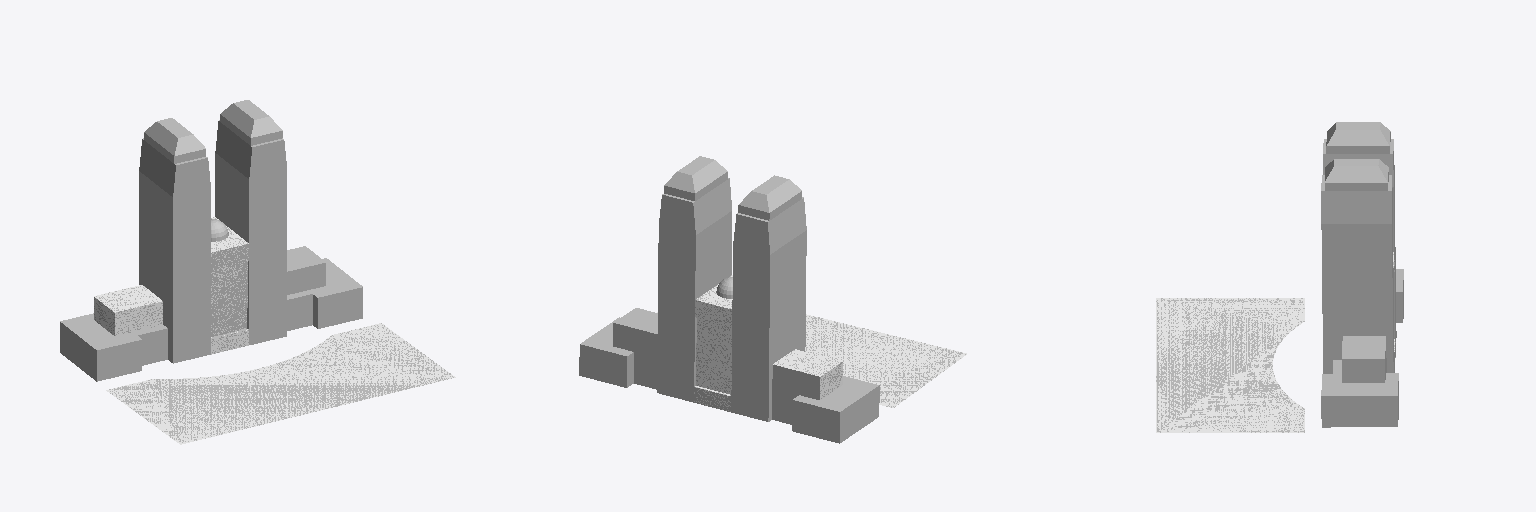
Rendered from Guanghua.obj.
3 renders of one model, left to right at view 1: azimuth 30°, elevation 25°; view 2: azimuth 150°, elevation 25°; view 3: azimuth 270°, elevation 25°, orthographic.
Parts seen in each view (by area): view 1: SketchUp, ID284, ID202, ID434, ID474, ID387, ID240, ID565, ID271, ID421, ID466, ID374 (+3 smaller); view 2: ID284, ID202, SketchUp, ID434, ID474, ID387, ID487, ID565, ID366, ID421, ID466, ID337 (+3 smaller); view 3: SketchUp, ID541, ID387, ID284, ID374, ID202, ID350, ID337, ID458.
Boxes of the visible parts, <box> form: SketchUp: <box>106,323,455,444</box>; ID284: <box>217,114,286,329</box>; ID202: <box>140,133,210,347</box>; ID434: <box>60,297,167,381</box>; ID474: <box>139,159,173,362</box>; ID387: <box>287,263,362,330</box>; ID240: <box>211,244,248,338</box>; ID565: <box>215,141,249,242</box>; ID271: <box>173,321,286,363</box>; ID421: <box>60,313,166,349</box>; ID466: <box>94,285,161,312</box>; ID374: <box>287,258,362,299</box>; ID284: <box>657,172,730,386</box>; ID202: <box>731,191,805,405</box>; SketchUp: <box>657,312,966,407</box>; ID434: <box>772,362,879,443</box>; ID474: <box>768,218,806,421</box>; ID387: <box>579,323,656,389</box>; ID487: <box>694,300,731,395</box>; ID565: <box>695,199,731,299</box>; ID366: <box>657,377,768,421</box>; ID421: <box>793,376,878,411</box>; ID466: <box>773,349,842,376</box>; ID337: <box>739,179,801,212</box>; SketchUp: <box>1156,298,1304,432</box>; ID541: <box>1321,212,1393,373</box>; ID387: <box>1321,351,1398,427</box>; ID284: <box>1321,172,1394,361</box>; ID374: <box>1321,360,1398,395</box>; ID202: <box>1323,132,1395,337</box>; ID350: <box>1325,159,1388,182</box>; ID337: <box>1326,123,1390,145</box>; ID458: <box>1342,336,1385,358</box>.
Bounding box in the file's own units: 183012 × 139948 × 143092.